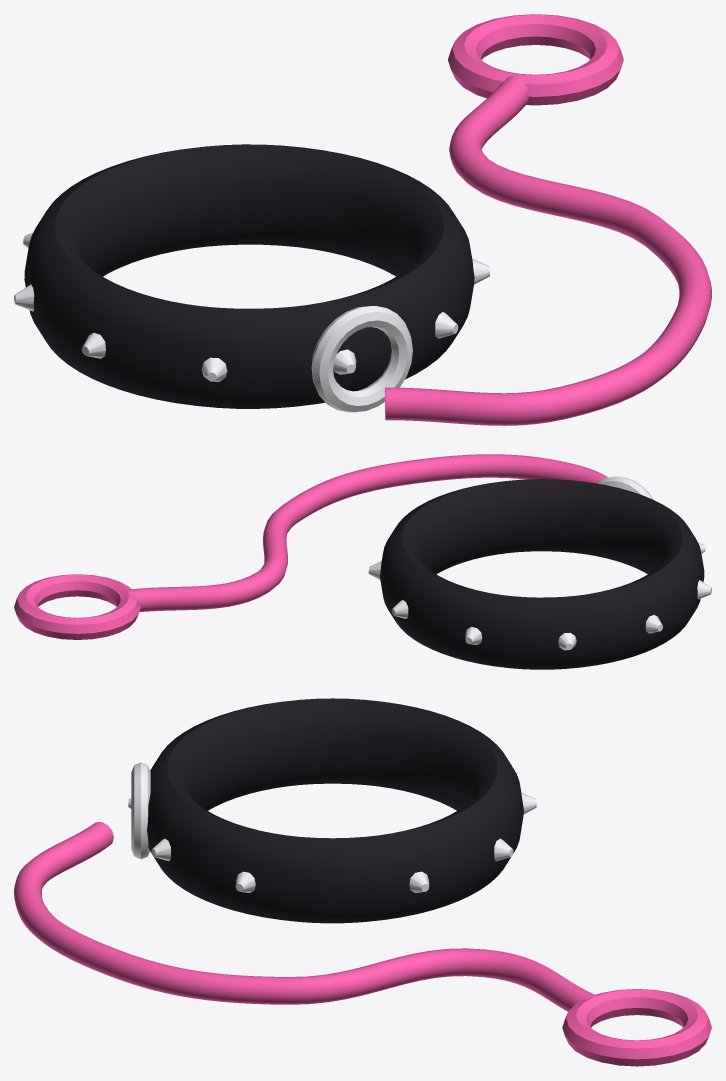
The model's file is Item_CollarLeash.fbx.
The picture shows the model from 3 angles, top to bottom: view 1: azimuth 30°, elevation 25°; view 2: azimuth 150°, elevation 25°; view 3: azimuth 270°, elevation 25°; orthographic projection. The views are drawn at different scales.
Visible parts, largest first — view 1: Collar_Band, Collar_Leash, Collar_LeashLoop, Collar_Ring, Collar_Studs; view 2: Collar_Band, Collar_Leash, Collar_LeashLoop, Collar_Studs, Collar_Ring; view 3: Collar_Band, Collar_Leash, Collar_LeashLoop, Collar_Ring, Collar_Studs.
Boxes of the visible parts, left/top/right/bottom form: Collar_Band: left=24, top=144, right=474, bottom=408; Collar_Leash: left=385, top=74, right=711, bottom=425; Collar_LeashLoop: left=448, top=14, right=623, bottom=105; Collar_Ring: left=311, top=306, right=412, bottom=412; Collar_Studs: left=14, top=233, right=489, bottom=381; Collar_Band: left=380, top=479, right=704, bottom=669; Collar_Leash: left=128, top=454, right=607, bottom=611; Collar_LeashLoop: left=14, top=574, right=140, bottom=639; Collar_Studs: left=368, top=542, right=711, bottom=650; Collar_Ring: left=597, top=476, right=653, bottom=499; Collar_Band: left=147, top=698, right=523, bottom=923; Collar_Leash: left=14, top=822, right=595, bottom=1011; Collar_LeashLoop: left=562, top=989, right=711, bottom=1066; Collar_Ring: left=131, top=762, right=150, bottom=859; Collar_Studs: left=128, top=792, right=536, bottom=893.
Bounding box in the file's own units: 0.1674 × 0.0224 × 0.1604.
